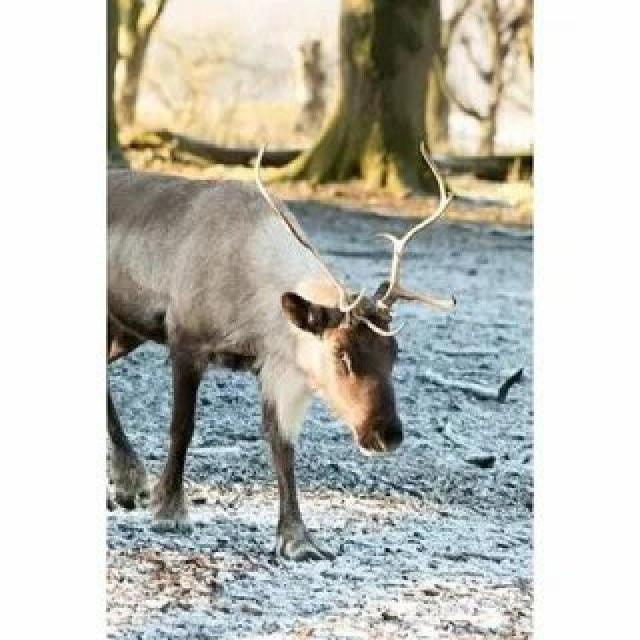deer: (96, 93, 536, 507)
